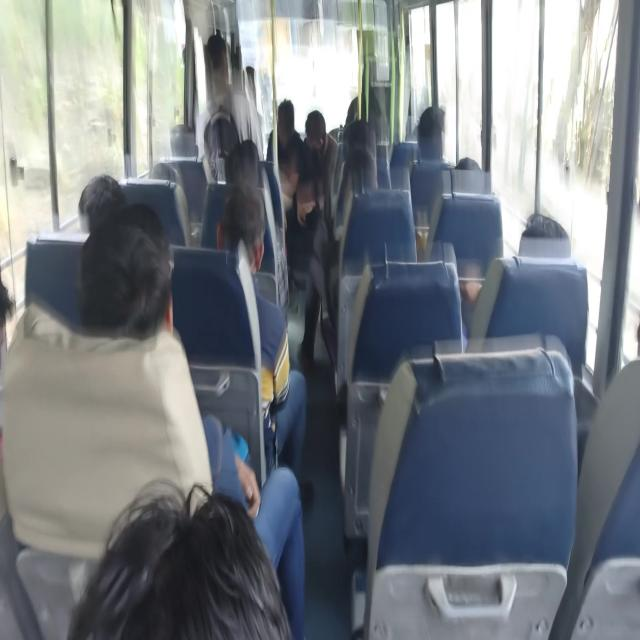person: (97, 479, 298, 640), (71, 180, 152, 250), (116, 218, 177, 310), (606, 264, 640, 428), (518, 207, 566, 280), (229, 191, 267, 253), (349, 148, 394, 199), (200, 45, 242, 96), (338, 122, 382, 168), (449, 145, 484, 201), (172, 128, 218, 170), (416, 110, 456, 158), (0, 236, 16, 334), (143, 160, 187, 194), (234, 137, 268, 178), (301, 118, 332, 156), (239, 64, 272, 99), (277, 98, 308, 135), (412, 112, 430, 144)
